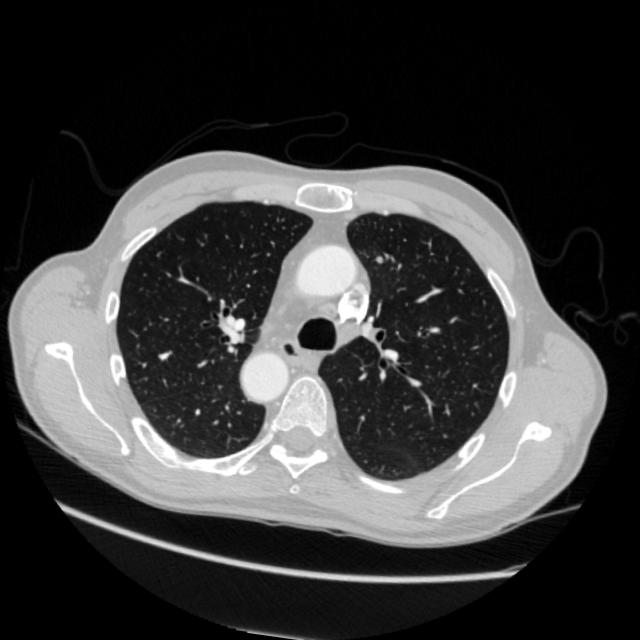nodule: (370, 248, 393, 270)
